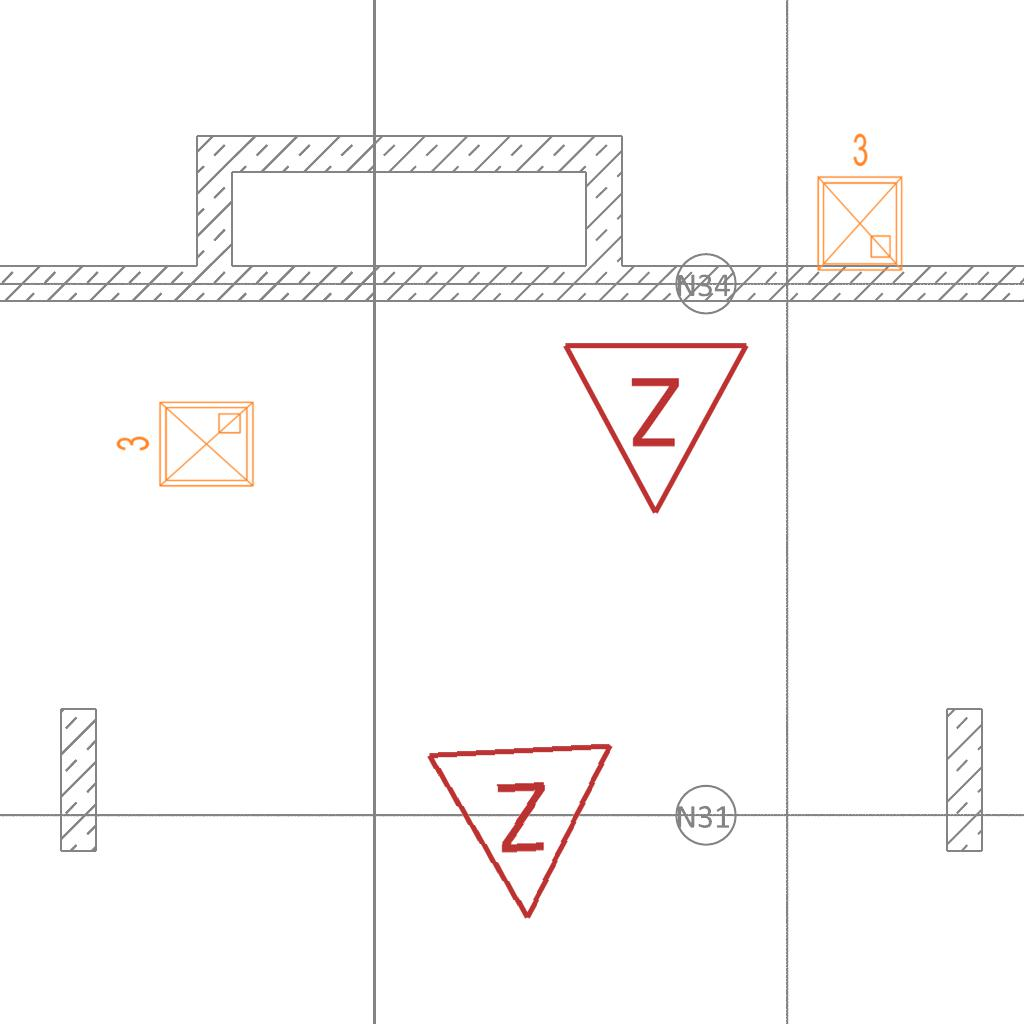Einbaudownlights_LED_Konferenzraeume: (111, 394, 261, 498), (806, 128, 910, 278)
Zimmersignalleuchte: (422, 728, 630, 938), (560, 328, 756, 528)
